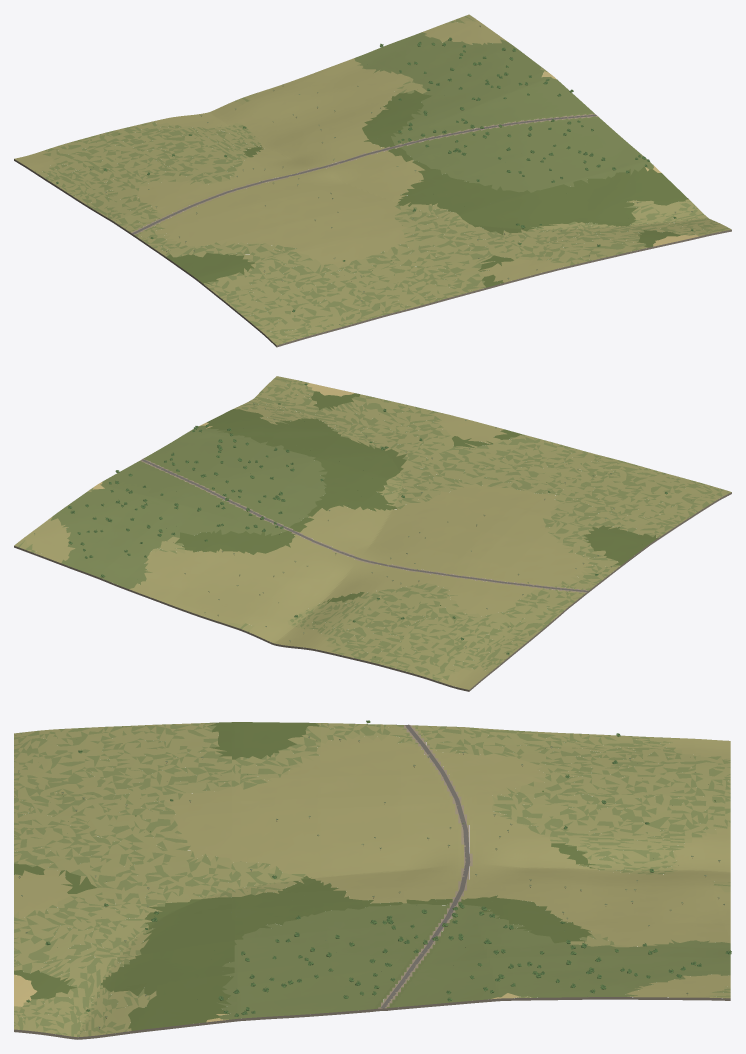
Rendered from parca_+2_-2-yakin.glb.
3 views of the same model, one above another, from view 1: azimuth 30°, elevation 25°; view 2: azimuth 150°, elevation 25°; view 3: azimuth 270°, elevation 25° (orthographic). The views are drawn at different scales.
Parts seen in each view (by area): view 1: parca_+2_-2_arazi, parca_+2_-2_bitkiler, parca_+2_-2_yollar; view 2: parca_+2_-2_arazi, parca_+2_-2_bitkiler, parca_+2_-2_yollar; view 3: parca_+2_-2_arazi, parca_+2_-2_bitkiler, parca_+2_-2_yollar.
Part boxes in pixels (x1=…): parca_+2_-2_arazi: x1=14, y1=14, x2=731, y2=347; parca_+2_-2_bitkiler: x1=56, y1=25, x2=693, y2=326; parca_+2_-2_yollar: x1=131, y1=114, x2=596, y2=234; parca_+2_-2_arazi: x1=14, y1=376, x2=731, y2=691; parca_+2_-2_bitkiler: x1=34, y1=383, x2=701, y2=657; parca_+2_-2_yollar: x1=141, y1=459, x2=587, y2=592; parca_+2_-2_arazi: x1=14, y1=722, x2=730, y2=1039; parca_+2_-2_bitkiler: x1=18, y1=720, x2=731, y2=1029; parca_+2_-2_yollar: x1=381, y1=724, x2=470, y2=1008.
Size of the model in its own units: 1004 by 85.1 by 1002.
